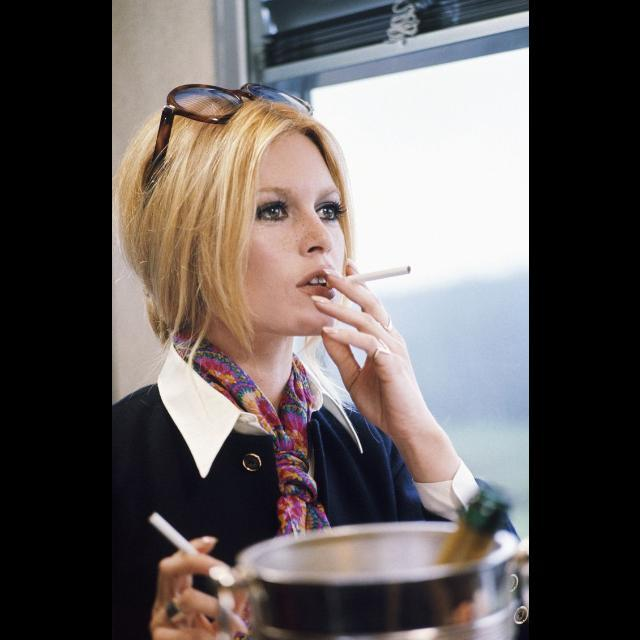rokok: (336, 255, 412, 301), (146, 512, 208, 560)
